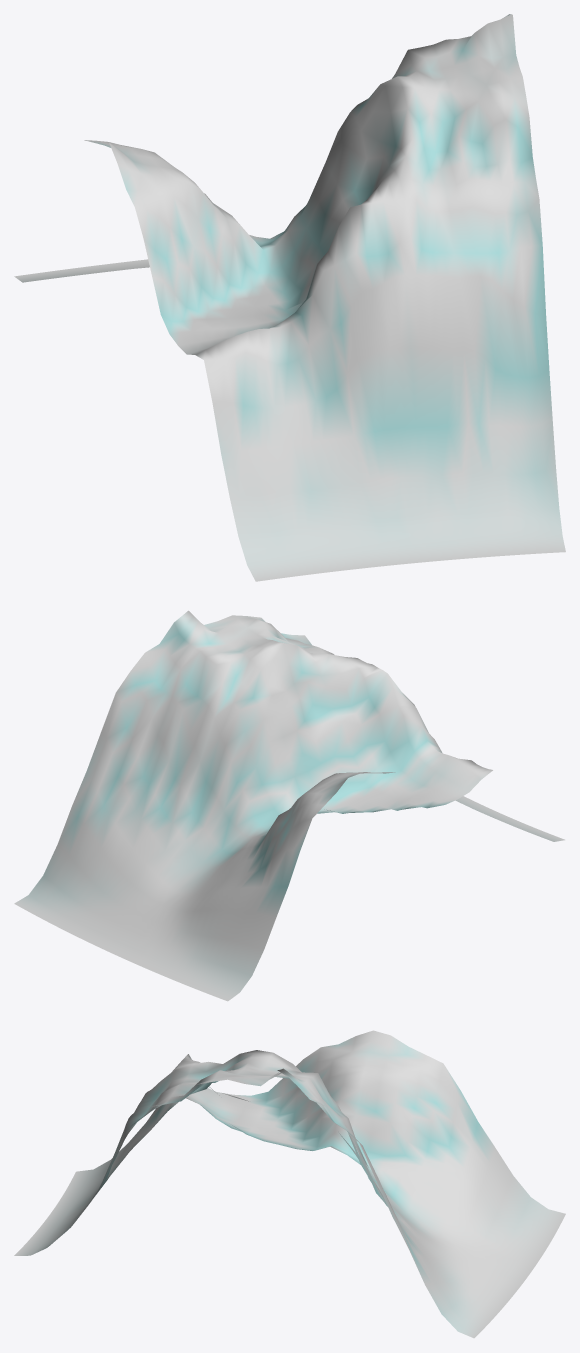
Rendered from middle_11.glb.
3 renders of one model, top to bottom at view 1: azimuth 30°, elevation 25°; view 2: azimuth 150°, elevation 25°; view 3: azimuth 270°, elevation 25°, orthographic. The views are drawn at different scales.
Visible parts, largest first — view 1: Mountain; view 2: Mountain; view 3: Mountain.
Part boxes in pixels (x1=…): Mountain: x1=14, y1=14, x2=565, y2=581; Mountain: x1=14, y1=610, x2=564, y2=1001; Mountain: x1=14, y1=1030, x2=565, y2=1338.
Bounding box in the file's own units: 474 × 308 × 662.
